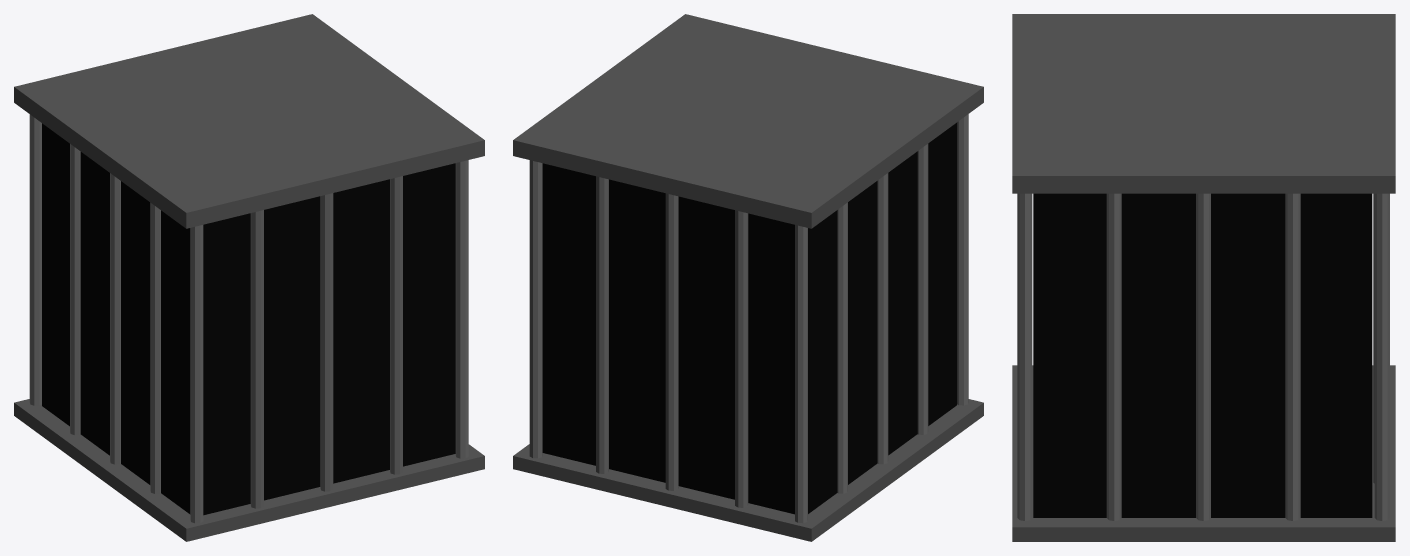
The model's file is cage.glb.
The picture shows the model from 3 angles, left to right: view 1: azimuth 30°, elevation 25°; view 2: azimuth 150°, elevation 25°; view 3: azimuth 270°, elevation 25°; orthographic projection. The views are drawn at different scales.
Parts seen in each view (by area): view 1: Cube.003, Cube.002, Cylinder, Cylinder.001, Cube; view 2: Cube.003, Cube.002, Cylinder, Cylinder.001, Cube; view 3: Cube.003, Cube.002, Cylinder, Cube, Cylinder.001.
Boxes of the visible parts, box(x1,y1,x2,y2) form: Cube.003: box(42, 123, 455, 515); Cube.002: box(14, 14, 484, 228); Cylinder: box(29, 114, 468, 523); Cylinder.001: box(250, 176, 402, 508); Cube: box(14, 399, 484, 541); Cube.003: box(542, 122, 956, 514); Cube.002: box(513, 14, 983, 228); Cylinder: box(529, 114, 968, 523); Cylinder.001: box(596, 176, 748, 507); Cube: box(513, 399, 983, 541); Cube.003: box(1033, 193, 1372, 517); Cube.002: box(1012, 14, 1395, 193); Cylinder: box(1017, 193, 1389, 520); Cube: box(1012, 365, 1395, 541); Cylinder.001: box(1373, 193, 1374, 483).
Size of the model in its own units: 15.06 by 15.86 by 15.06.
5 materials, 3 textured.
